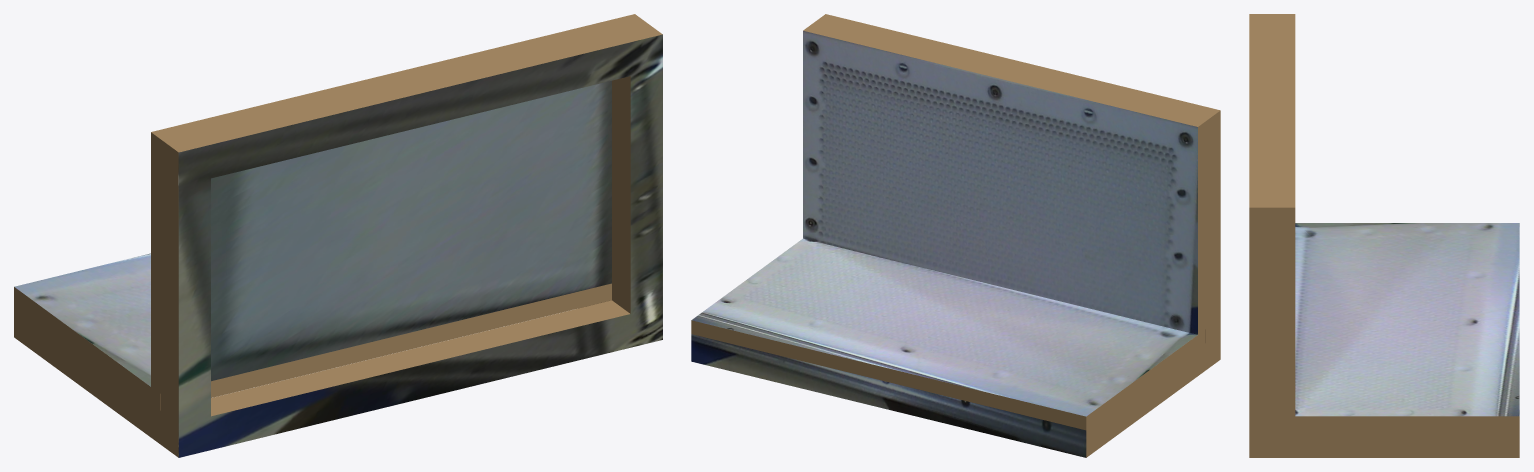
The picture shows the model from 3 angles, left to right: view 1: azimuth 30°, elevation 25°; view 2: azimuth 150°, elevation 25°; view 3: azimuth 270°, elevation 25°; orthographic projection. The views are drawn at different scales.
Parts seen in each view (by area): view 1: part_4_node, part_2_node, part_0_node, part_1_node, part_6_node; view 2: part_5_node, part_6_node, part_0_node, part_1_node, part_3_node; view 3: part_6_node, part_0_node, part_1_node.
Part boxes in pixels (box(x1,y1,x2,y2)): part_4_node: box(211, 80, 611, 381); part_2_node: box(178, 34, 662, 457); part_0_node: box(14, 21, 662, 457); part_1_node: box(14, 14, 643, 410); part_6_node: box(14, 253, 150, 386); part_5_node: box(803, 30, 1197, 334); part_6_node: box(691, 238, 1197, 416); part_0_node: box(811, 14, 1220, 457); part_1_node: box(691, 25, 1205, 430); part_3_node: box(691, 334, 1086, 457); part_6_node: box(1295, 223, 1519, 416); part_0_node: box(1249, 14, 1519, 457); part_1_node: box(1280, 14, 1519, 430).
Bounding box in the file's own units: 0.3001 × 0.1769 × 0.1809.
7 materials, 5 textured.
